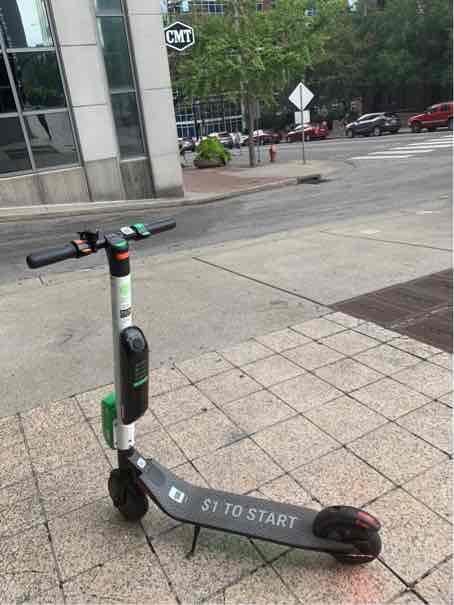scooter: (24, 212, 400, 577)
